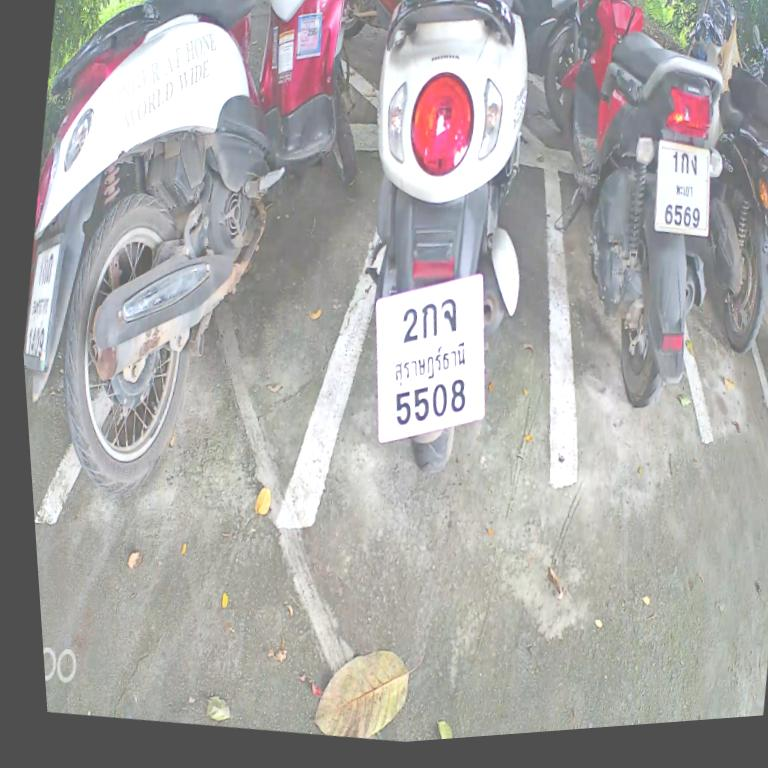license plate: (341, 239, 518, 474), (14, 210, 82, 387), (636, 127, 728, 250)
